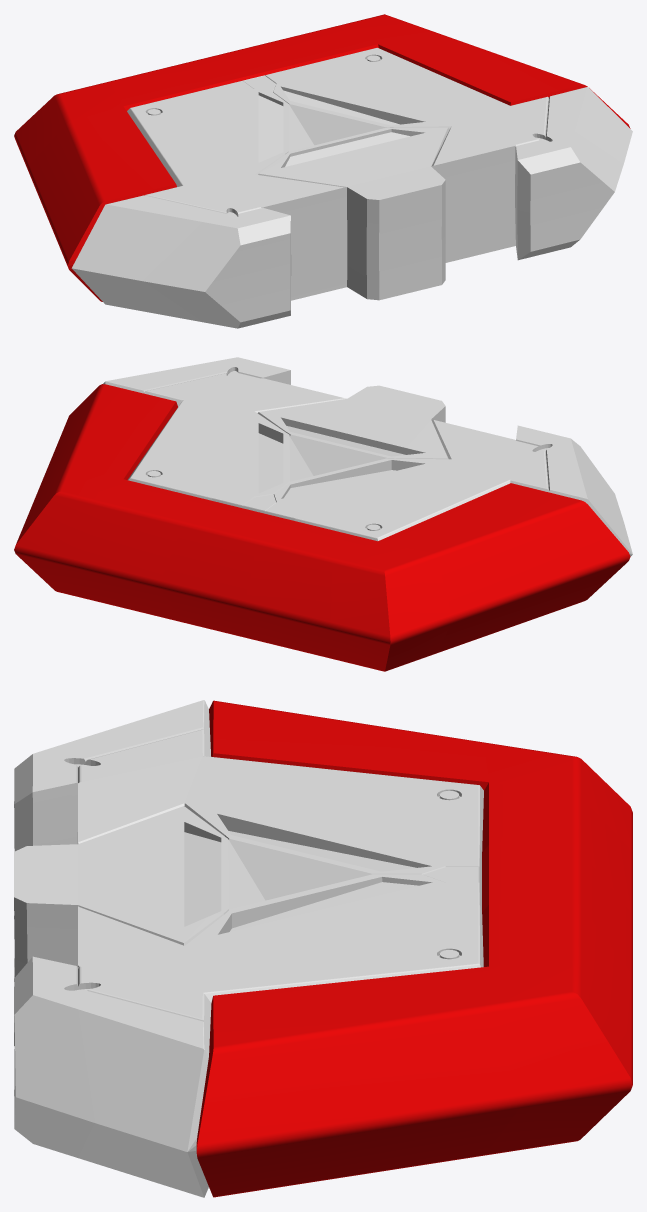
File: MESH_PlayerPaddle.fbx
3 views of the same model, one above another, from view 1: azimuth 30°, elevation 25°; view 2: azimuth 150°, elevation 25°; view 3: azimuth 270°, elevation 25° (orthographic). The views are drawn at different scales.
Parts seen in each view (by area): view 1: polySurface7, polySurface8; view 2: polySurface8, polySurface7; view 3: polySurface7, polySurface8.
Boxes of the visible parts, bbox=[...] form: polySurface7: bbox=[71, 47, 632, 328]; polySurface8: bbox=[14, 14, 630, 301]; polySurface8: bbox=[14, 384, 630, 671]; polySurface7: bbox=[103, 357, 632, 556]; polySurface7: bbox=[14, 700, 483, 1197]; polySurface8: bbox=[196, 700, 632, 1197].
Size of the model in its own units: 26.19 by 4.46 by 16.8.
